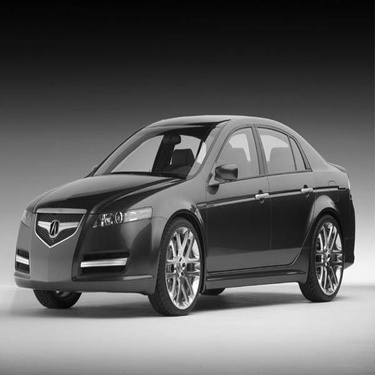car: (12, 111, 362, 315)
